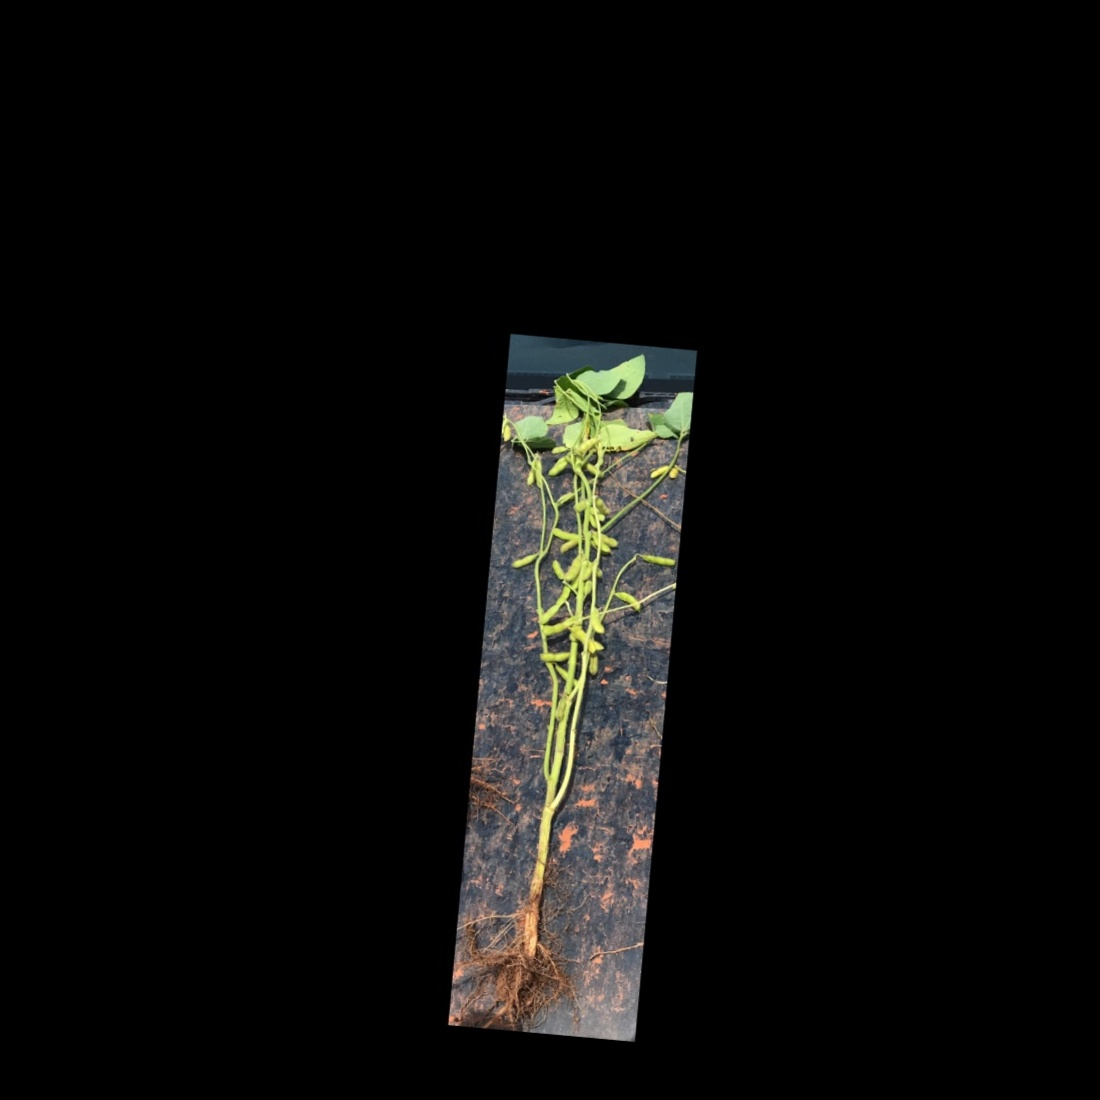pod: (610, 588, 645, 611), (508, 548, 538, 572), (636, 551, 677, 568), (554, 578, 574, 610), (536, 648, 573, 665), (550, 526, 583, 543), (546, 456, 572, 477), (549, 559, 568, 583), (646, 462, 668, 480)
soy: (451, 337, 693, 1020)
